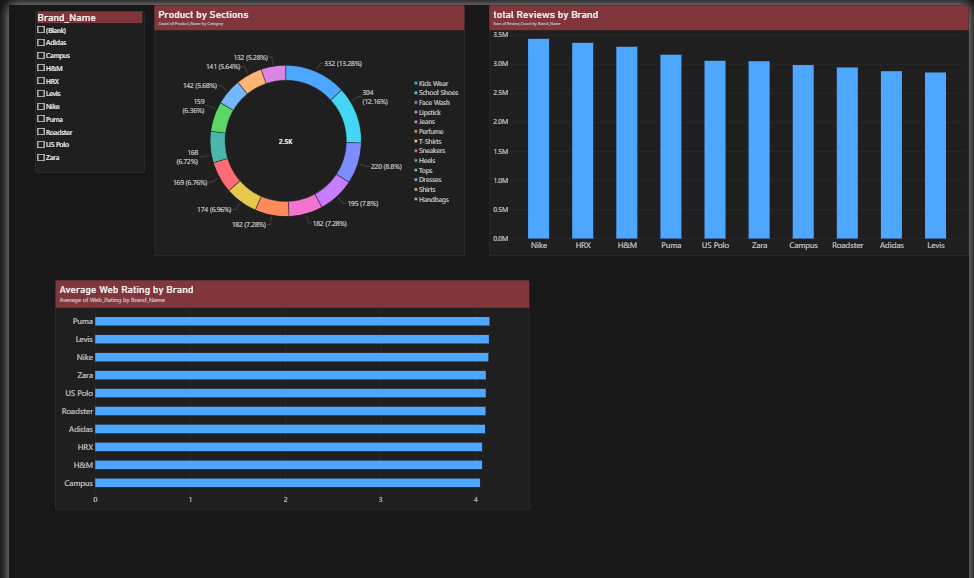

What the dashboard file says about the page in this screenshot:
{"tool":"powerbi","page":{"name":"Customer & Web Insights","canvas":[3840,2700],"ordinal":2},"visuals":[{"type":"clusteredBarChart","title":"Average Web Rating by Brand","fields":{"Category":["myntra_web_catalog.Brand_Name"],"Y":["Avg(myntra_web_catalog.Web_Rating)"]},"box":[183.3,1100,1896.7,920],"z":0},{"type":"clusteredColumnChart","title":"total Reviews by Brand","fields":{"Category":["myntra_web_catalog.Brand_Name"],"Y":["Sum(myntra_web_catalog.Review_Count)"]},"box":[1920,0,1920,1003.3],"z":1},{"type":"donutChart","title":"Product by Sections","fields":{"Category":["myntra_web_catalog.Category"],"Y":["CountNonNull(myntra_web_catalog.Product_Name)"]},"box":[580,0,1243.3,1003.3],"z":2},{"type":"slicer","fields":{"Values":["myntra_web_catalog.Brand_Name"]},"box":[106.7,26.7,436.7,646.7],"z":3}]}

Visuals, with their boxes on the page's 3840x2700 design canvas (x1, y1, x2, y2). These are canvas units, not pixel positions in the 974x578 screenshot, which may show the page scaled, cropped or inside an application window:
"Average Web Rating by Brand" clusteredBarChart: 183:1100:2080:2020
"total Reviews by Brand" clusteredColumnChart: 1920:0:3840:1003
"Product by Sections" donutChart: 580:0:1823:1003
slicer - myntra_web_catalog.Brand_Name: 107:27:543:673
